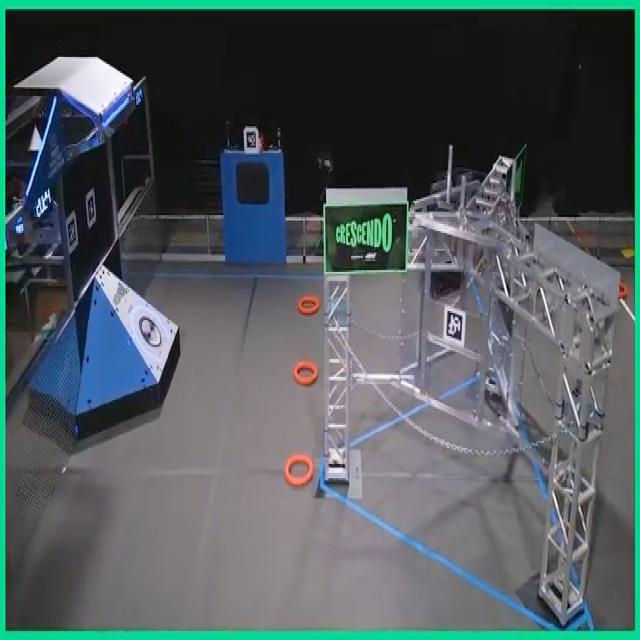note: (282, 454, 312, 486), (294, 359, 319, 384), (298, 294, 321, 316), (620, 281, 628, 299)
